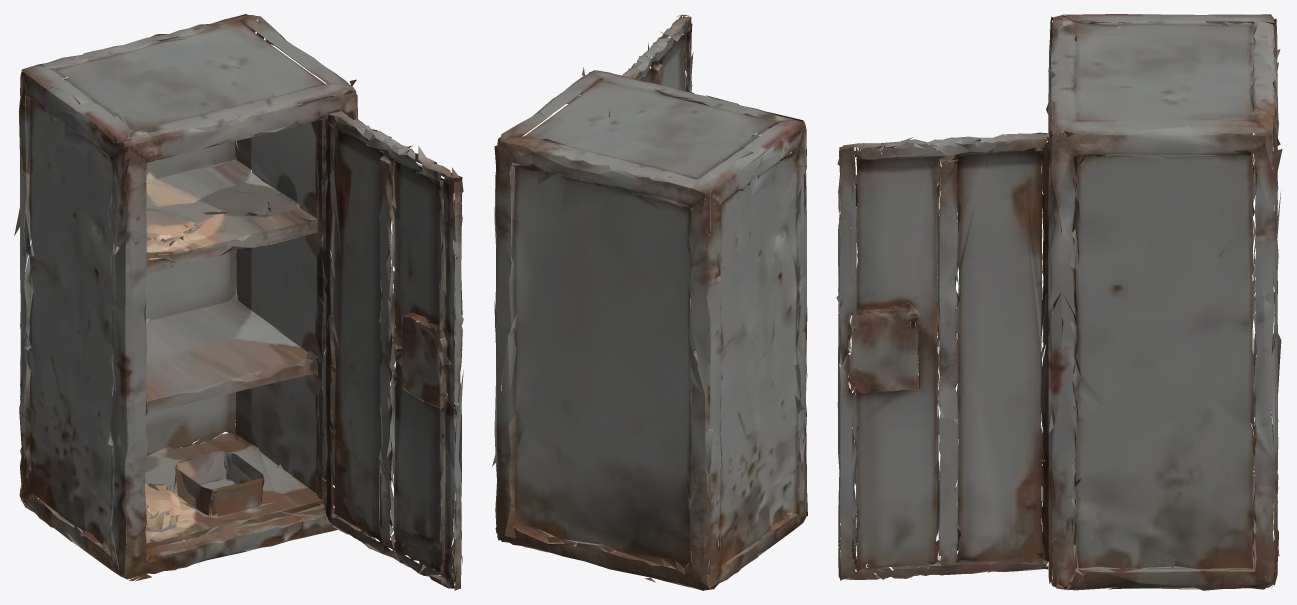
File: safe_cabinet_open.glb
3 views of the same model, side by side, from view 1: azimuth 30°, elevation 25°; view 2: azimuth 150°, elevation 25°; view 3: azimuth 270°, elevation 25° (orthographic). The views are drawn at different scales.
Parts seen in each view (by area): view 1: safe_cabinet_open; view 2: safe_cabinet_open; view 3: safe_cabinet_open.
Part boxes in pixels (left/top/right/bottom): safe_cabinet_open: left=14, top=14, right=463, bottom=590; safe_cabinet_open: left=492, top=14, right=807, bottom=590; safe_cabinet_open: left=836, top=14, right=1282, bottom=590.
Size of the model in its own units: 0.9132 by 1.56 by 1.36.
Materials: 1 (1 with a texture image).
